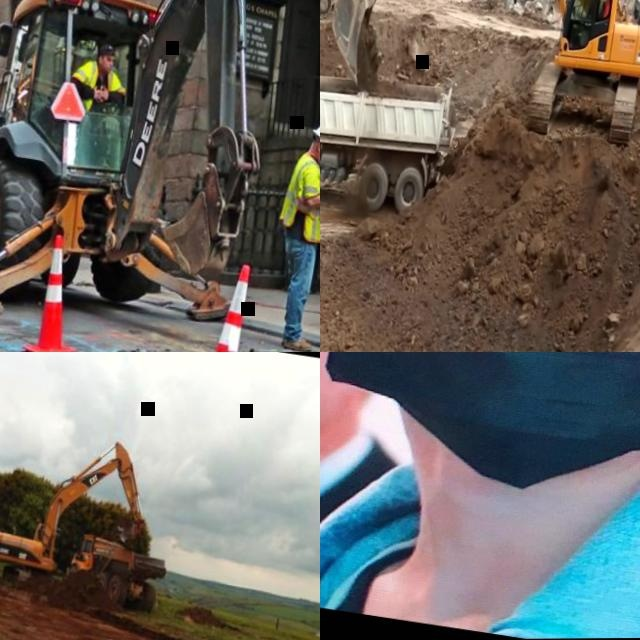Hardhat: (309, 122, 320, 152)
Mask: (320, 352, 640, 525)
NO-Hardhat: (97, 42, 116, 57)
NO-Mask: (320, 352, 358, 482), (99, 61, 113, 75), (313, 148, 320, 165), (588, 0, 591, 6)
NO-Safety Vest: (320, 470, 640, 640), (586, 6, 594, 21)
Person: (320, 352, 640, 640), (320, 352, 461, 619), (258, 118, 320, 352), (66, 39, 132, 115), (567, 0, 597, 50)
Safety Cone: (22, 235, 92, 352), (179, 260, 267, 352)
Safety Vest: (277, 150, 320, 244), (76, 61, 121, 115)
machinery: (0, 0, 301, 352), (320, 0, 640, 161), (0, 422, 186, 618), (320, 31, 465, 228)
